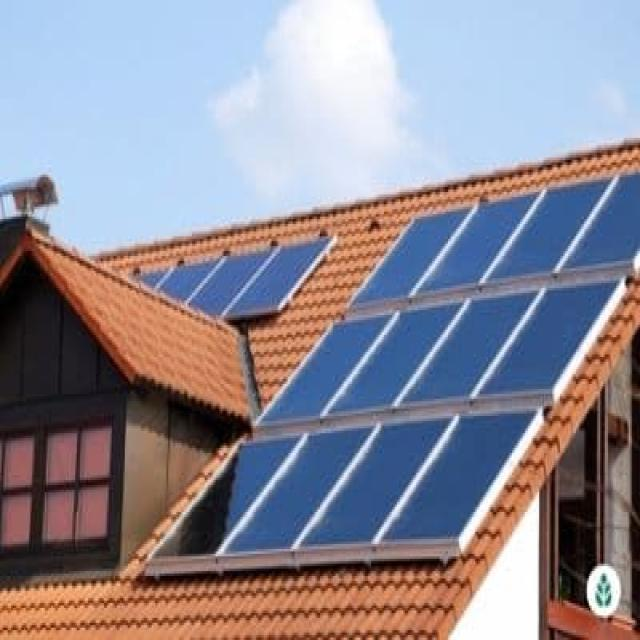clean-solar-panel: (149, 176, 640, 577)
